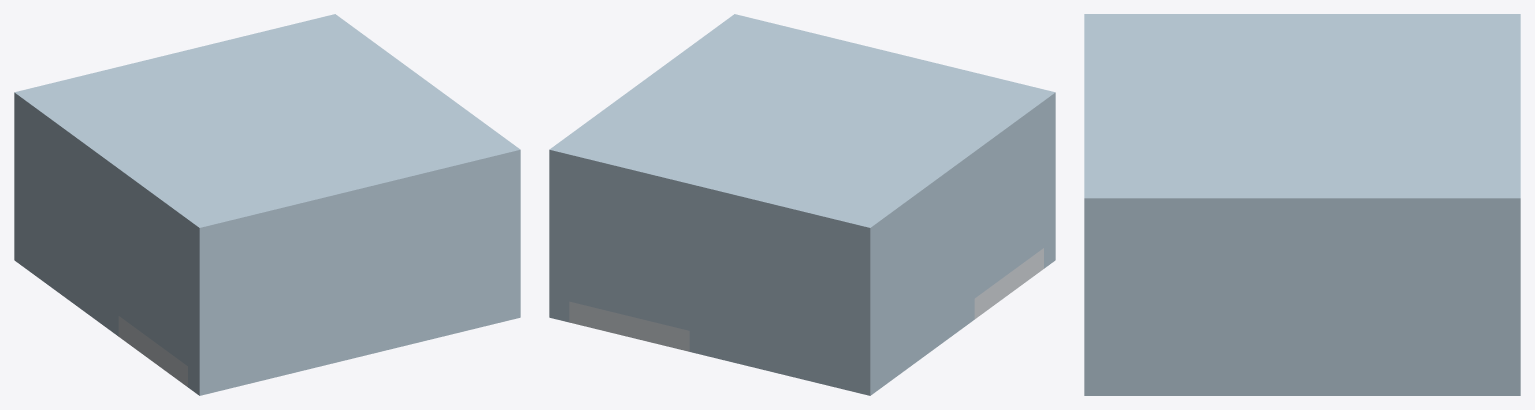
The model's file is ice-bend-mirror.glb.
3 views of the same model, side by side, from view 1: azimuth 30°, elevation 25°; view 2: azimuth 150°, elevation 25°; view 3: azimuth 270°, elevation 25° (orthographic). The views are drawn at different scales.
Visible parts, largest first — view 1: ice-rock_11, ice-rock_10, plug_ice_west, ice-rock_8, ice-rock_9, ice-rock_7, ice-rock_4, ice-rock_6, ice-rock_5, ice-rock_3, ice-rock_2, ice-rock_1 (+1 smaller); view 2: ice-rock_11, ice-rock_1, plug_ice_north, plug_ice_west, ice-rock_5, ice-rock_4, ice-rock_6, ice-rock_3, ice-rock_2, snow_1, ice-rock_10, snow_8; view 3: ice-rock_11, ice-rock_2.
Boxes of the visible parts, bbox=[...] form: ice-rock_11: bbox=[14, 14, 520, 248]; ice-rock_10: bbox=[188, 205, 380, 395]; plug_ice_west: bbox=[118, 190, 187, 365]; ice-rock_8: bbox=[420, 185, 460, 341]; ice-rock_9: bbox=[380, 195, 420, 351]; ice-rock_7: bbox=[460, 175, 500, 331]; ice-rock_4: bbox=[49, 139, 72, 302]; ice-rock_6: bbox=[95, 173, 118, 336]; ice-rock_5: bbox=[72, 156, 95, 319]; ice-rock_3: bbox=[26, 122, 48, 285]; ice-rock_2: bbox=[500, 170, 520, 322]; ice-rock_1: bbox=[14, 113, 25, 268]; ice-rock_11: bbox=[549, 14, 1055, 248]; ice-rock_1: bbox=[689, 205, 881, 395]; plug_ice_north: bbox=[569, 175, 689, 330]; plug_ice_west: bbox=[974, 122, 1043, 298]; ice-rock_5: bbox=[928, 190, 951, 353]; ice-rock_4: bbox=[905, 207, 928, 370]; ice-rock_6: bbox=[951, 173, 974, 336]; ice-rock_3: bbox=[882, 224, 904, 386]; ice-rock_2: bbox=[549, 170, 569, 322]; snow_1: bbox=[569, 301, 689, 351]; ice-rock_10: bbox=[1044, 113, 1055, 268]; snow_8: bbox=[974, 248, 1043, 319]; ice-rock_11: bbox=[1084, 14, 1520, 222]; ice-rock_2: bbox=[1084, 223, 1520, 395].
Size of the model in its own units: 8 by 4 by 8.
